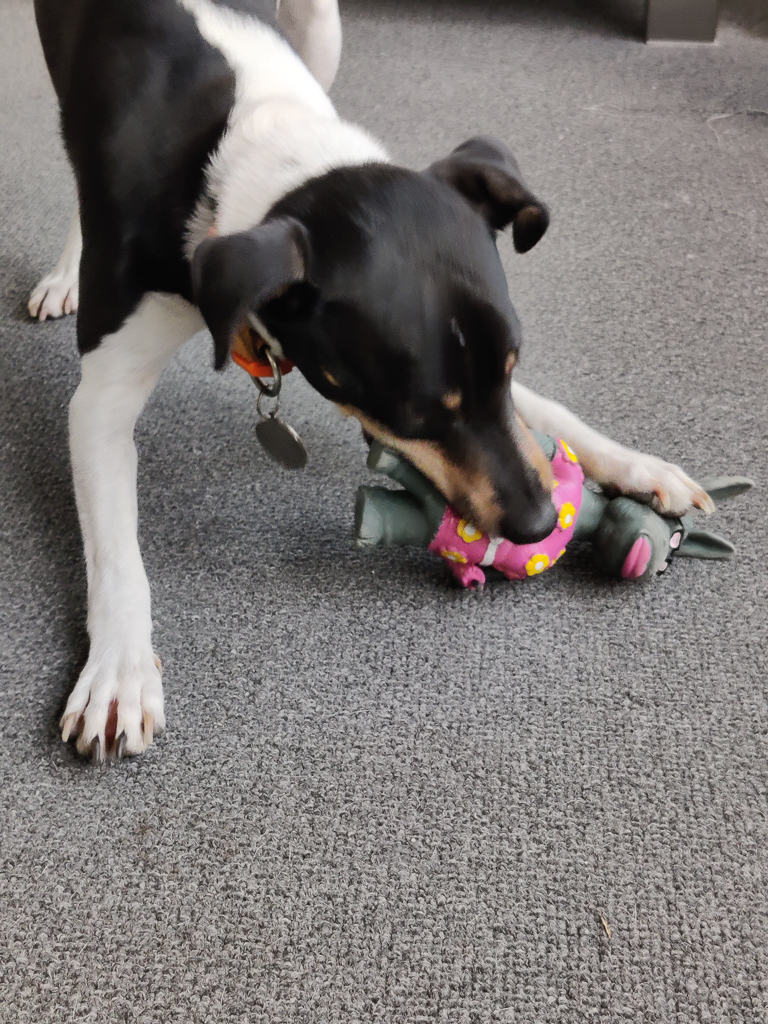Dog: (14, 0, 740, 784)
Humanoid: (336, 397, 763, 593)
